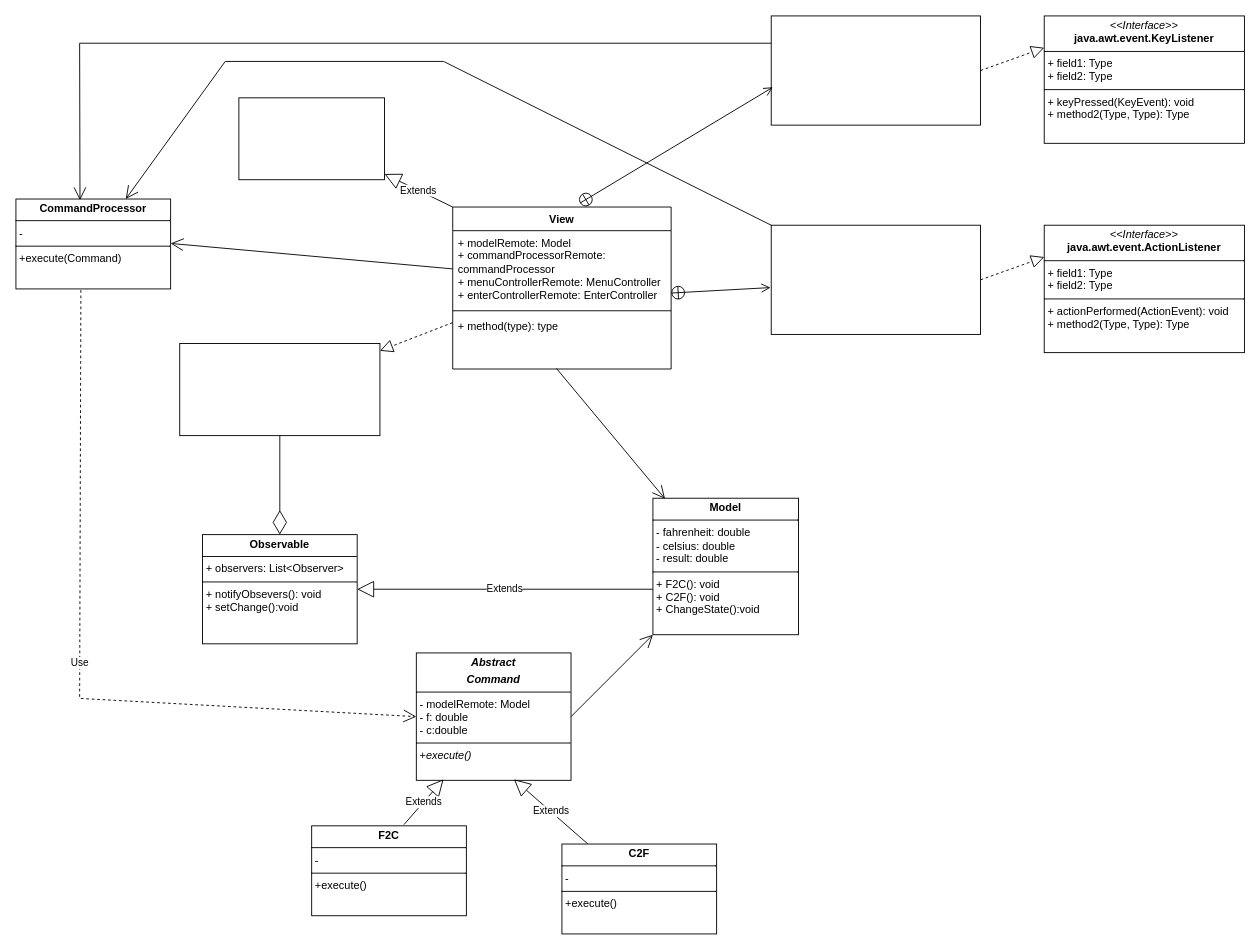
Some shapes in this 1260 by 950 pixel diagram are drawn without their labels. Here are the shapes that lost their labels. From the top down, the centre of each, then its label:
At (x=875, y=70): "EnterController + field: Type +actionPerformed(ActionEvent e): void".
At (x=311, y=138): "JFrame + field: Type + method(): Type".
At (x=875, y=279): "MenuController + field: Type +actionPerformed(ActionEvent e): void".
At (x=279, y=389): "Obsever + + update(): void".
